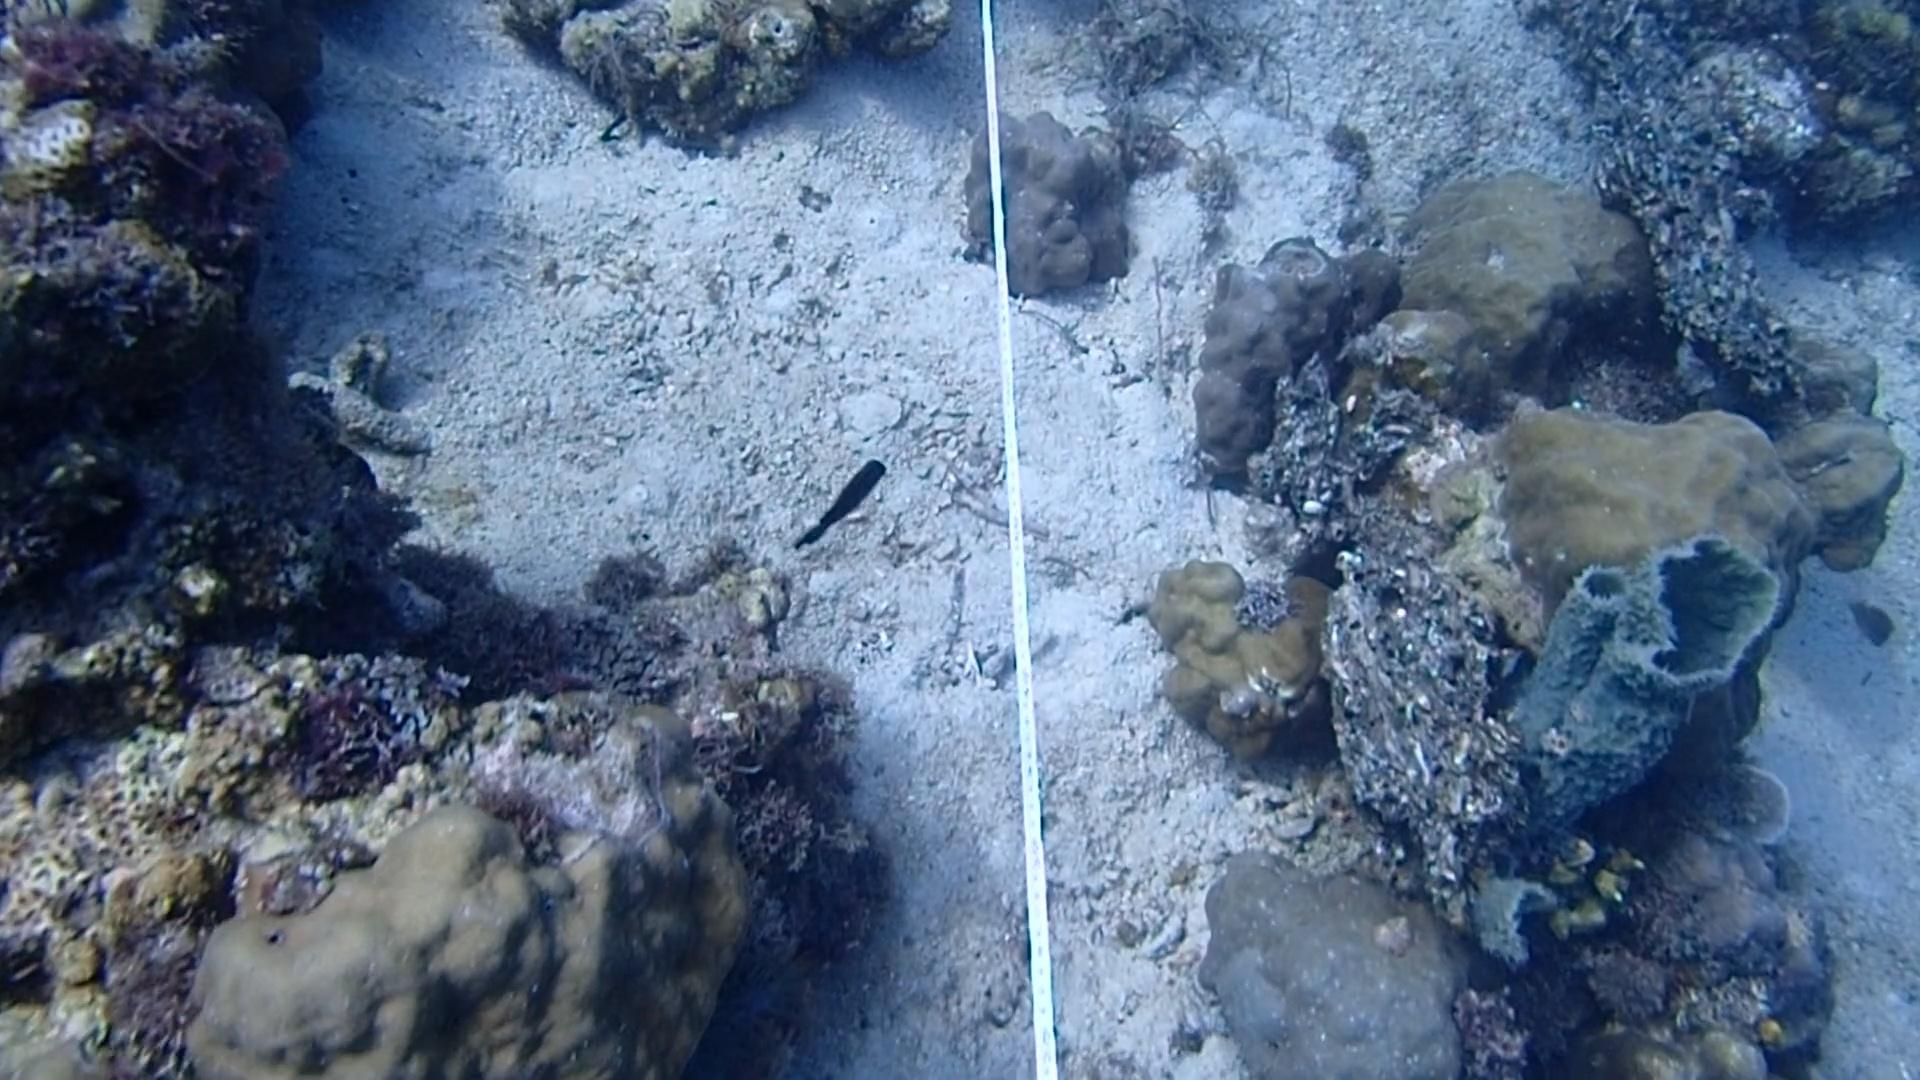Dark Fish: (791, 448, 894, 554)
